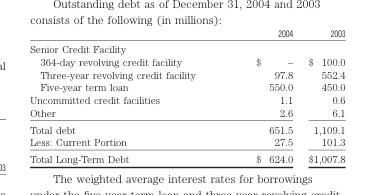table: (29, 28, 344, 164)
table column: (29, 28, 225, 164), (225, 28, 299, 164), (299, 28, 344, 164)
table column header: (29, 28, 344, 40)
table projected row header: (29, 40, 344, 54)
table row: (29, 120, 344, 135), (29, 135, 344, 150), (29, 40, 344, 54), (29, 106, 344, 120), (29, 150, 344, 164), (29, 54, 344, 67), (29, 67, 344, 80), (29, 80, 344, 93), (29, 93, 344, 106), (29, 28, 344, 40)
